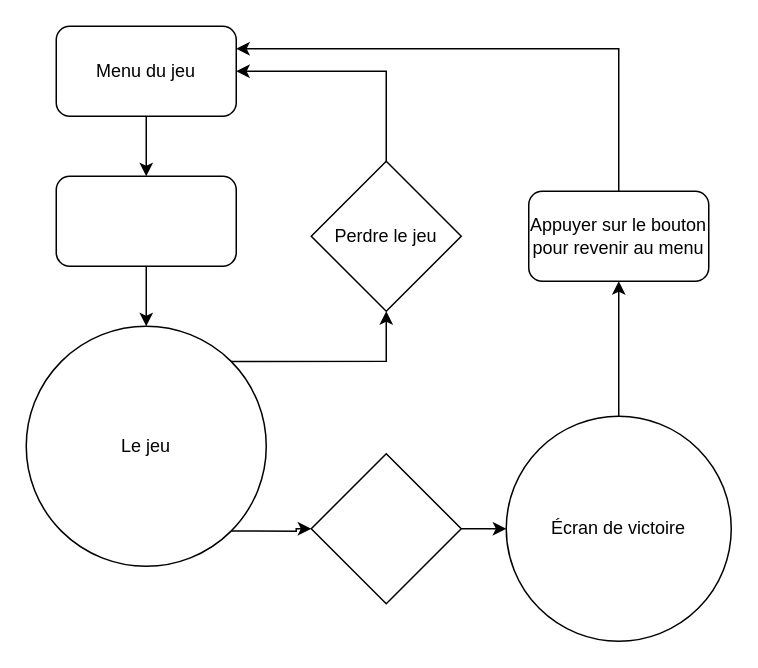
The diagram is 758 pixels wide and 668 high, and some of its shapes have lost their labels. Each missing label, with the centre of its shape:
"Appuyer sur le bouton pour commencer la partie" goes at (x=145, y=220).
"Gagner le jeu" goes at (x=385, y=528).
